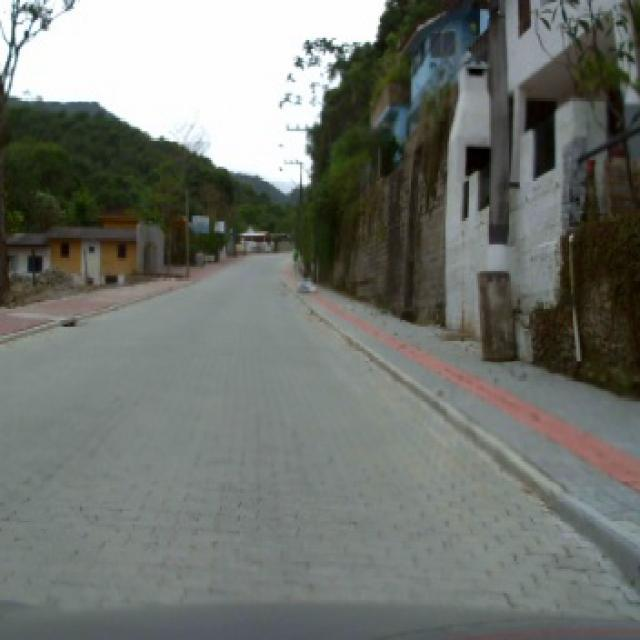Poth-hole: (58, 316, 76, 326)
